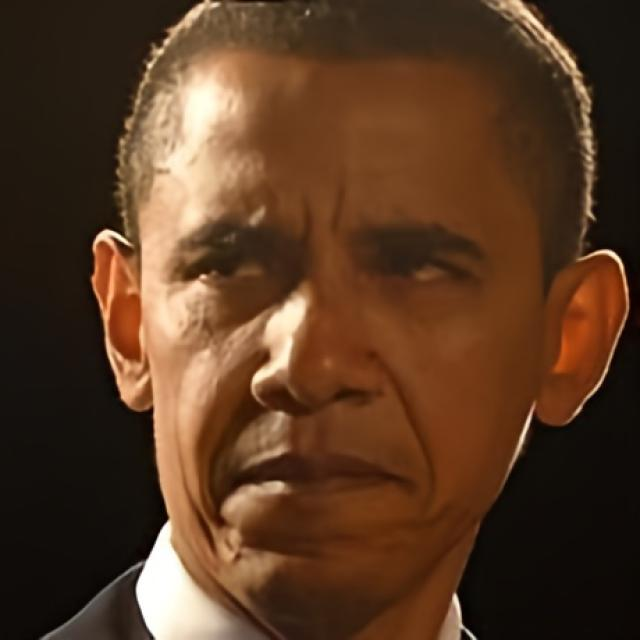anger: (142, 41, 538, 614)
